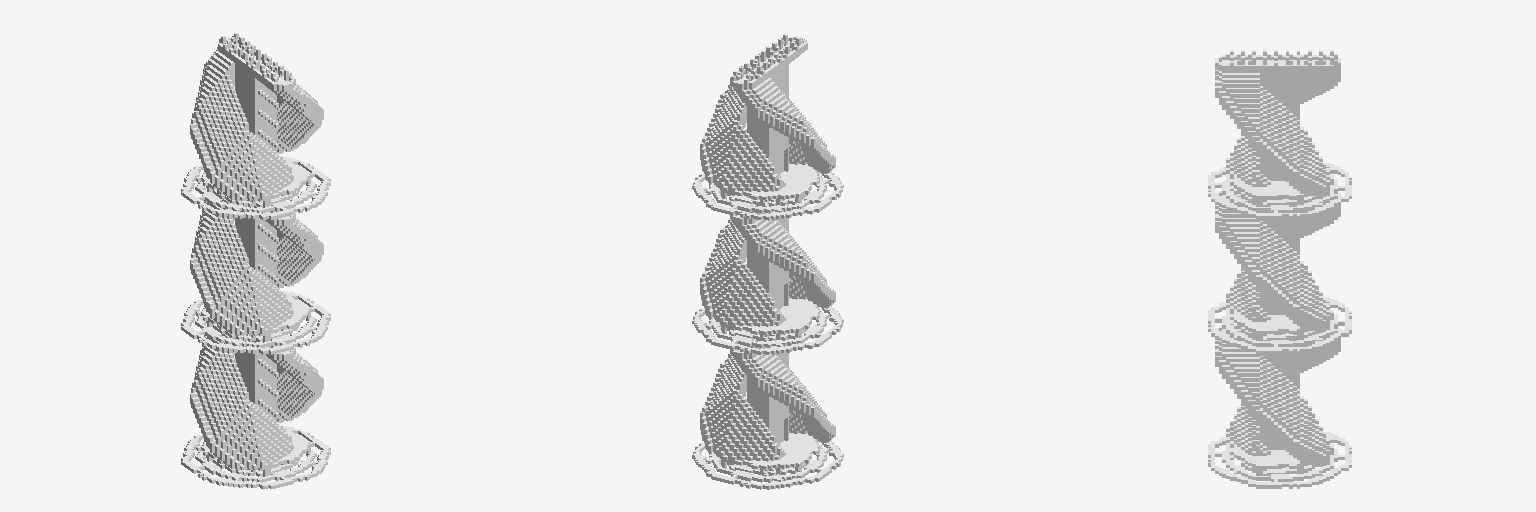
The model's file is Taiwan_green_building.vox.obj.
3 views of the same model, side by side, from view 1: azimuth 30°, elevation 25°; view 2: azimuth 150°, elevation 25°; view 3: azimuth 270°, elevation 25° (orthographic).
Parts seen in each view (by area): view 1: object 1; view 2: object 1; view 3: object 1.
Part boxes in pixels (x1,y1,x2,y2): object 1: (181, 33, 330, 489); object 1: (692, 34, 843, 489); object 1: (1208, 50, 1351, 488).
Bounding box in the file's own units: 3.9 × 12 × 3.9.